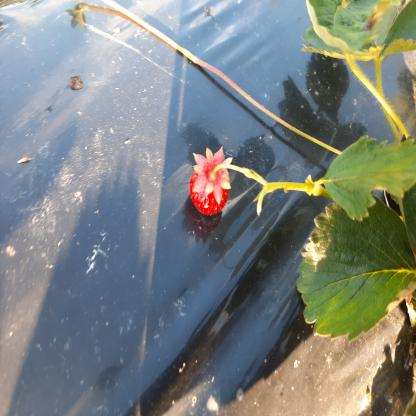ripe: (193, 162, 230, 214)
